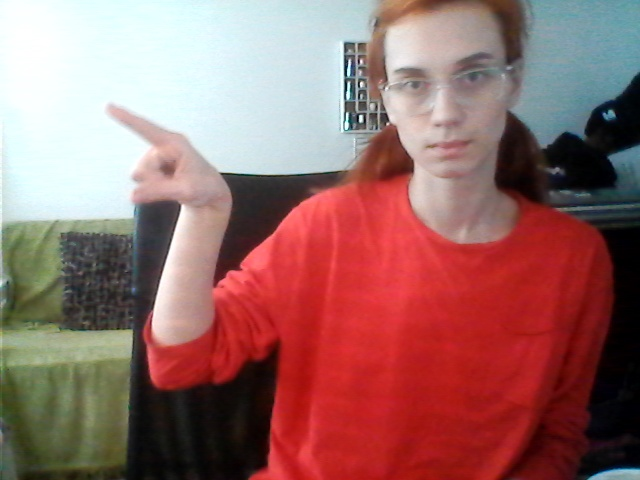on: (90, 90, 263, 394)
